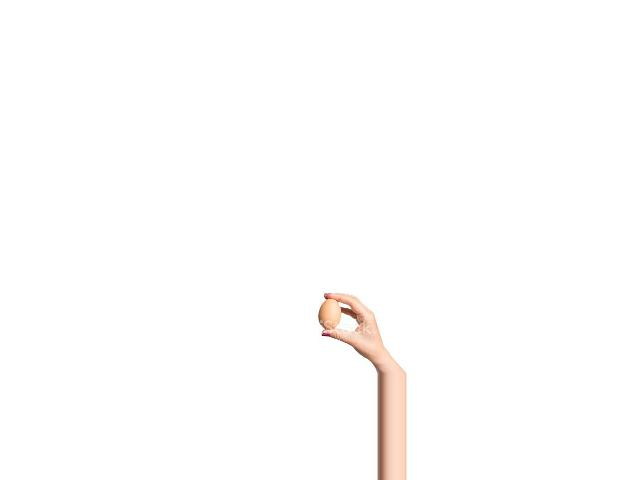egg: (319, 299, 341, 330)
